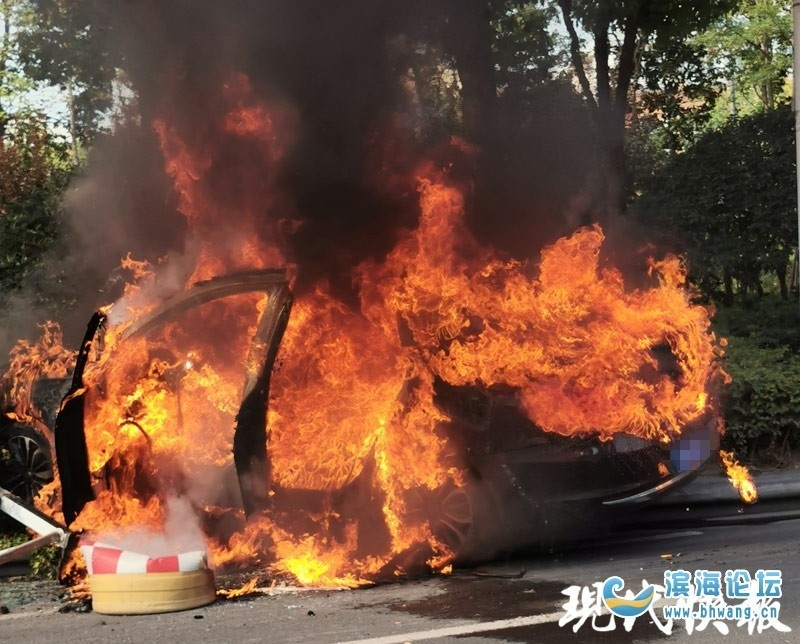fire: (55, 95, 713, 588)
